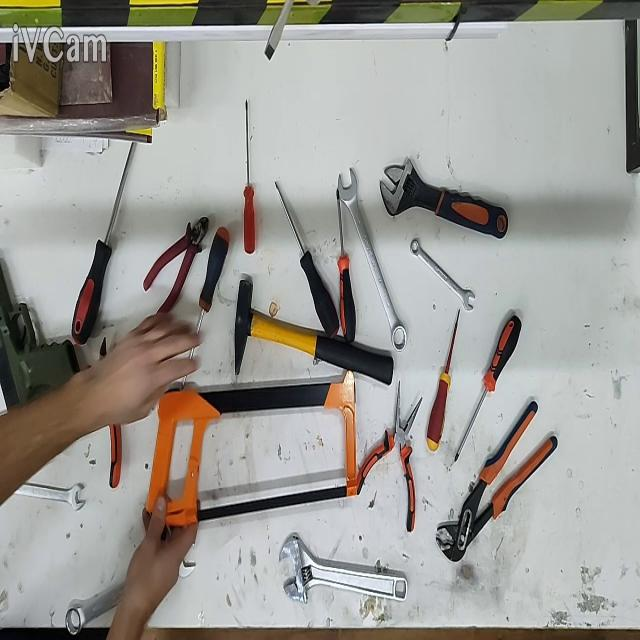Screwdriver: (72, 141, 136, 344), (274, 182, 340, 338), (456, 314, 522, 461), (181, 227, 231, 391), (426, 309, 459, 451), (336, 188, 355, 342), (244, 102, 255, 254)
